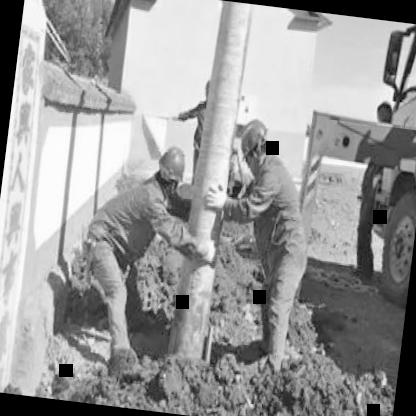helmet: (235, 113, 276, 179), (152, 142, 192, 198)
